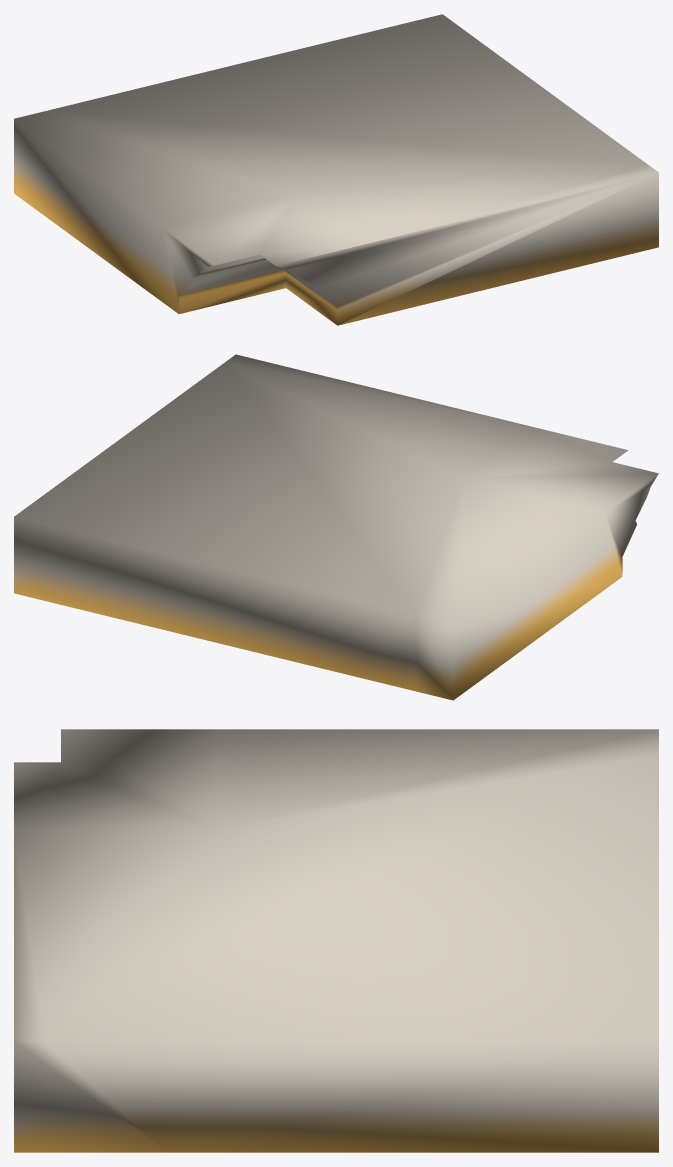
File: FrechalSuperiorCanto.fbx
The picture shows the model from 3 angles, top to bottom: view 1: azimuth 30°, elevation 25°; view 2: azimuth 150°, elevation 25°; view 3: azimuth 270°, elevation 25°; orthographic projection. The views are drawn at different scales.
Visible parts, largest first — view 1: FrechalSuperiorCanto; view 2: FrechalSuperiorCanto; view 3: FrechalSuperiorCanto.
Part boxes in pixels (x1,y1,x2,y2): FrechalSuperiorCanto: (14, 14, 658, 325); FrechalSuperiorCanto: (14, 354, 658, 700); FrechalSuperiorCanto: (14, 729, 658, 1152).
Bounding box in the file's own units: 120 × 20 × 105.
